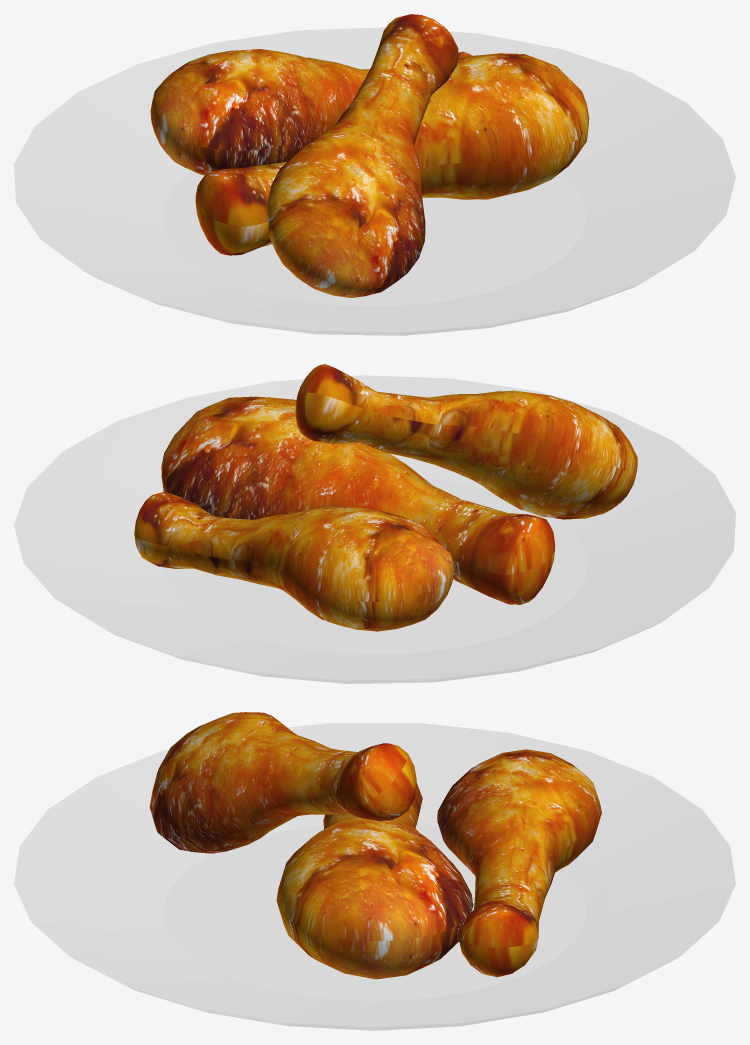
File: Chicken wings.FBX
The picture shows the model from 3 angles, top to bottom: view 1: azimuth 30°, elevation 25°; view 2: azimuth 150°, elevation 25°; view 3: azimuth 270°, elevation 25°; orthographic projection.
Visible parts, largest first — view 1: chicken wings; view 2: chicken wings; view 3: chicken wings.
Part boxes in pixels (x1,y1,x2,y2): chicken wings: (14, 14, 735, 335); chicken wings: (14, 364, 735, 683); chicken wings: (14, 712, 735, 1030).
Bounding box in the file's own units: 18.66 × 6.2 × 18.7.
2 materials, 2 textured.
